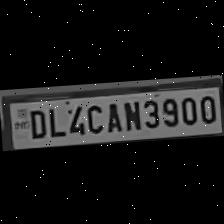0: (176, 93, 198, 125), (196, 90, 216, 123)
3: (140, 94, 160, 128)
4: (62, 100, 85, 135)
9: (158, 93, 180, 127)
A: (101, 98, 121, 132)
C: (82, 100, 105, 134)
D: (24, 106, 47, 140)
L: (44, 102, 64, 138)
N: (120, 96, 140, 130)
